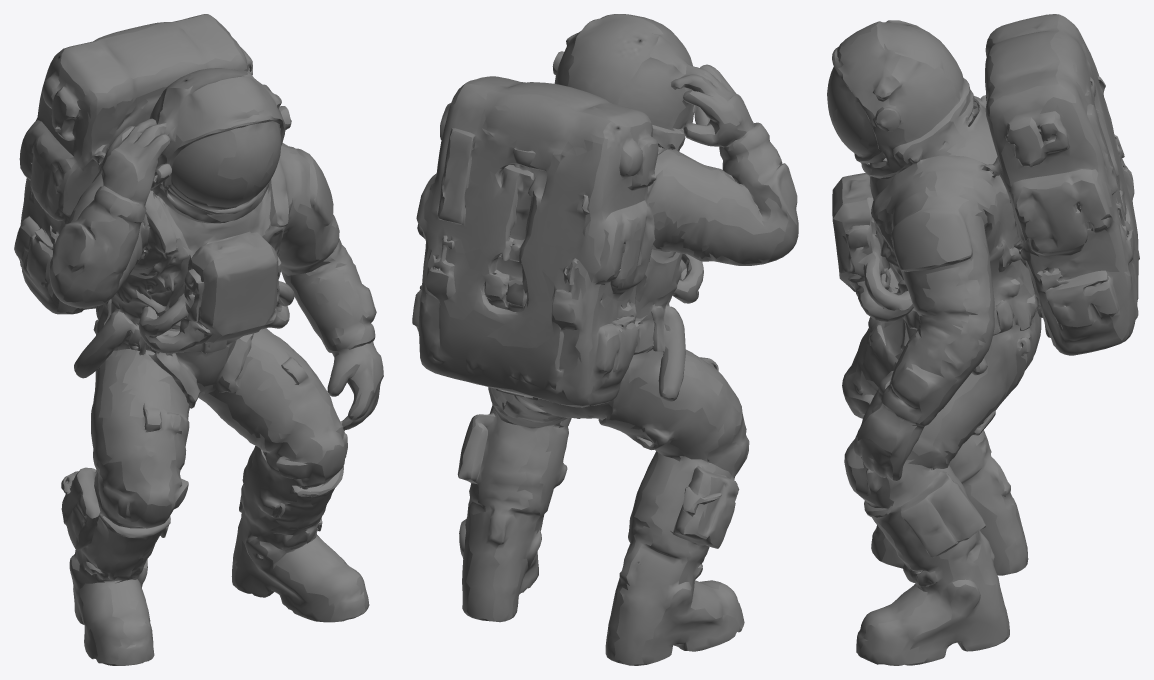
Rendered from completion_astronaut_1.glb.
3 views of the same model, side by side, from view 1: azimuth 30°, elevation 25°; view 2: azimuth 150°, elevation 25°; view 3: azimuth 270°, elevation 25° (orthographic). The views are drawn at different scales.
Visible parts, largest first — view 1: geometry_0; view 2: geometry_0; view 3: geometry_0.
Part boxes in pixels (x1,y1,x2,y2): geometry_0: (14,14,383,665); geometry_0: (412,14,798,665); geometry_0: (827,14,1139,665).
Size of the model in its own units: 0.6202 by 1 by 0.4983.
Materials: 1 (1 with a texture image).
